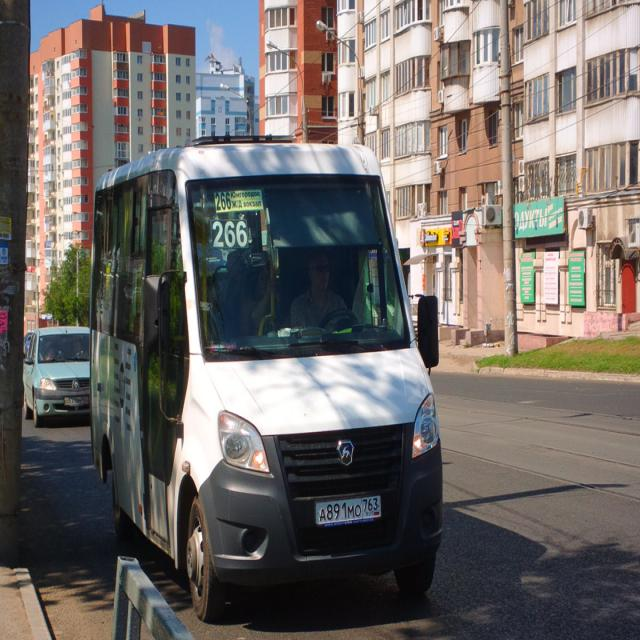number-of-bus: (213, 220, 250, 249), (216, 192, 234, 213)
